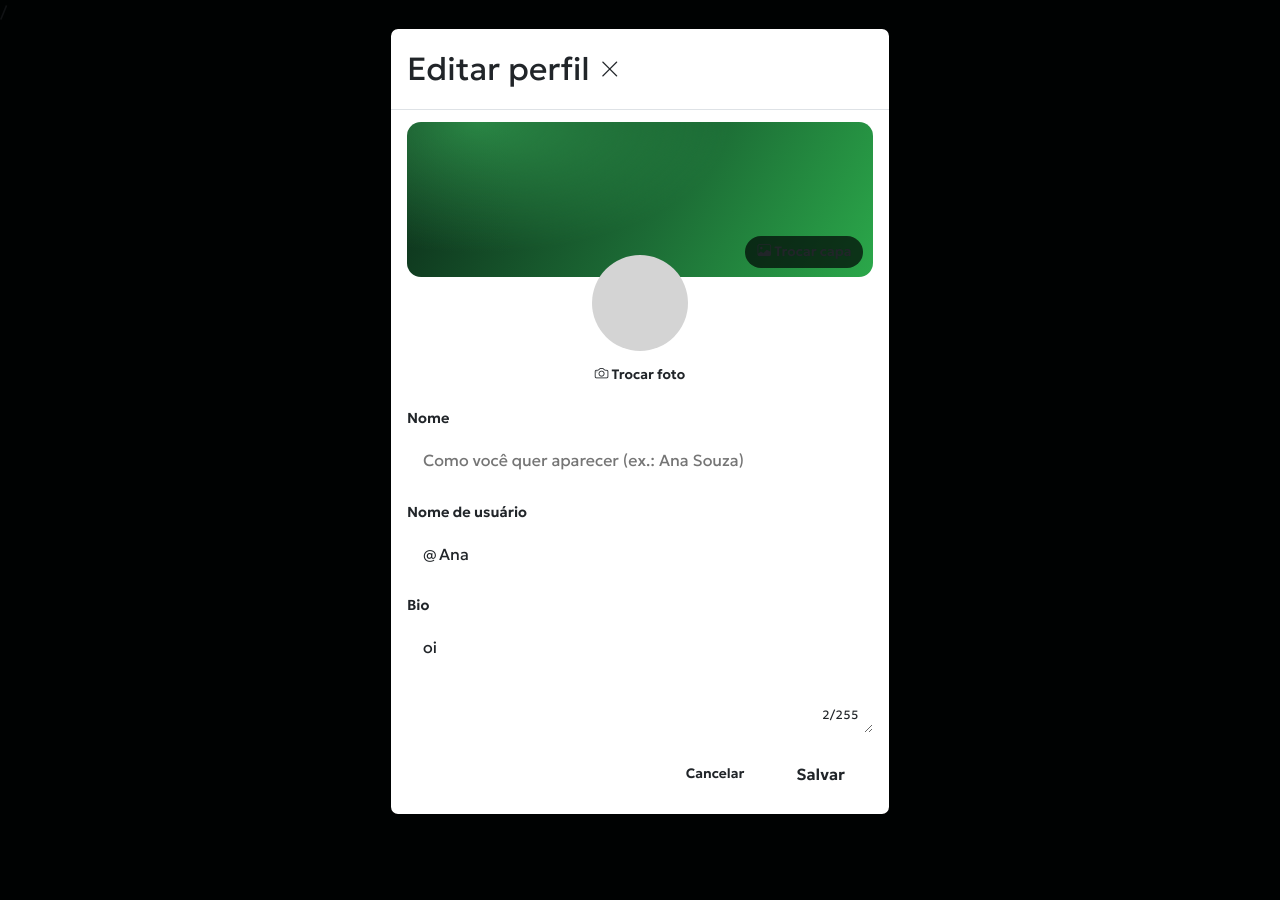
EditProfileModal › mostra o erro do servidor
Click the button "Salvar" at (821, 774), box x1=768 y1=750 x2=873 y2=798
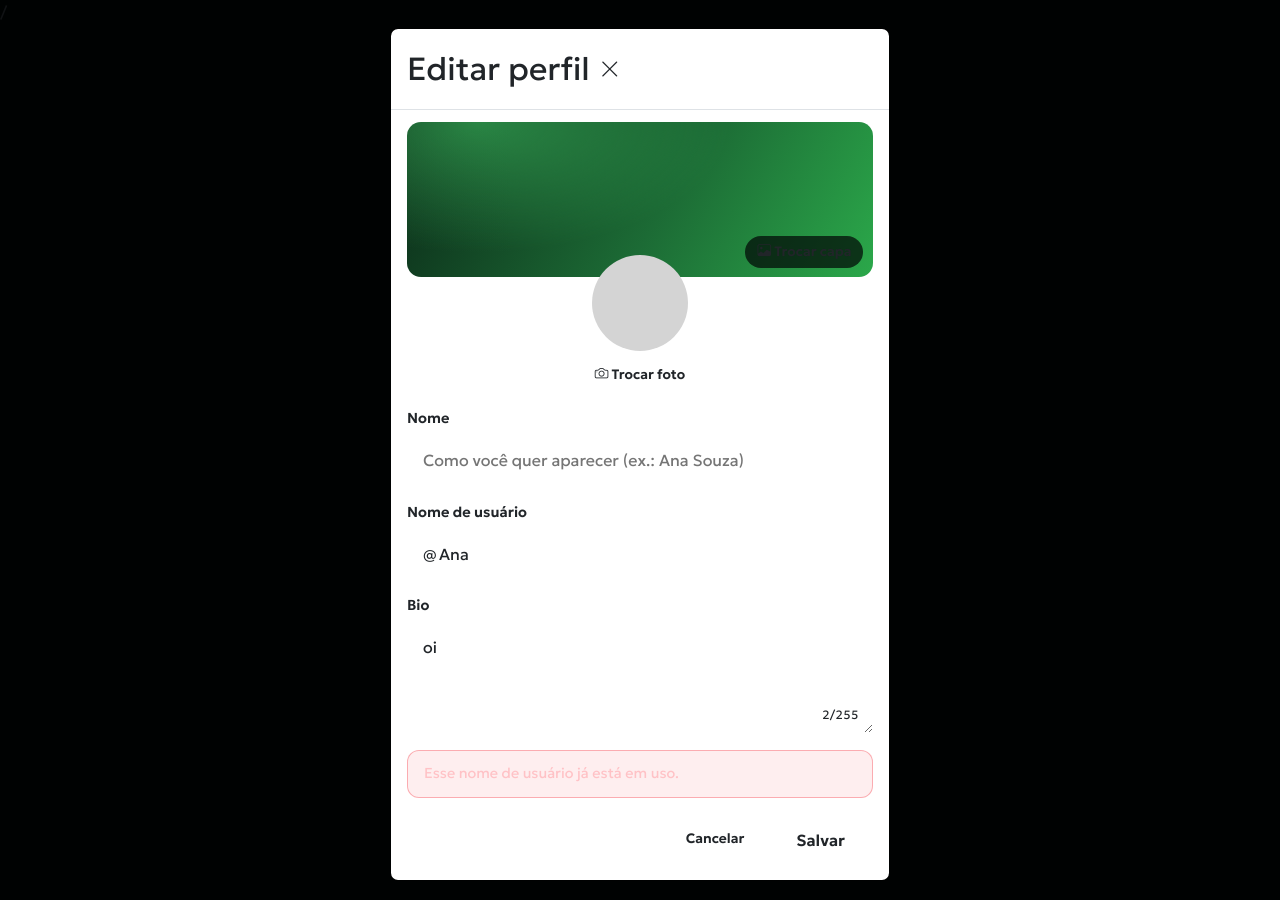
Expected: the message reads "Esse nome de usuário já está em uso.", x1=424 y1=764 x2=679 y2=782
